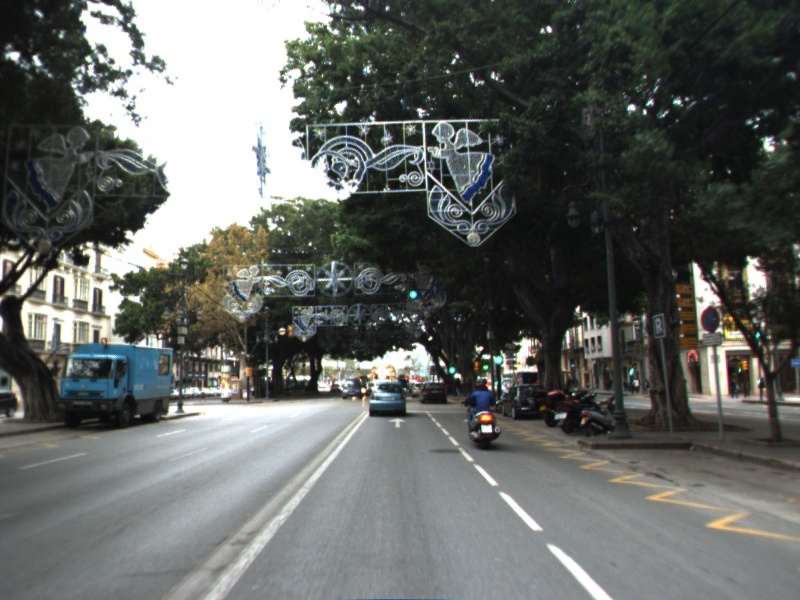STRAIGHT: (386, 415, 409, 430)
